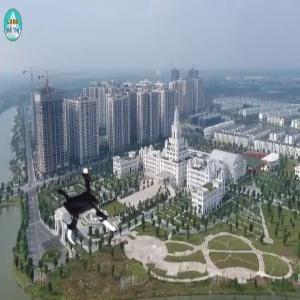drone: (41, 161, 129, 249)
